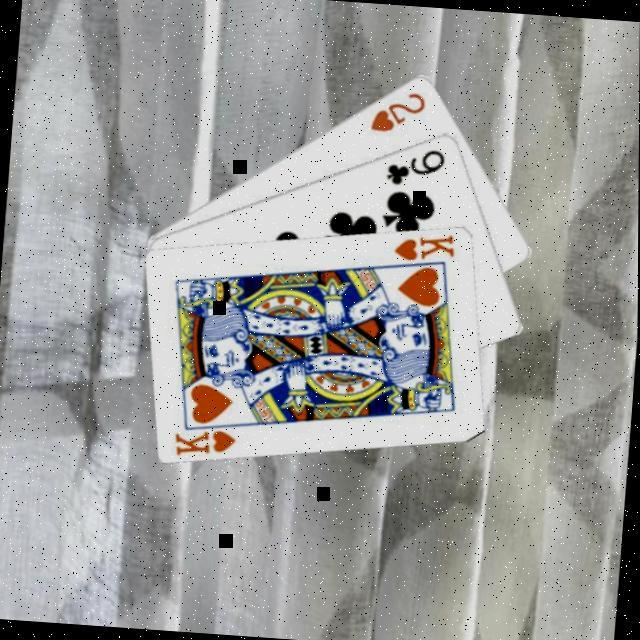2H: (368, 87, 431, 139)
9C: (383, 145, 450, 193)
KH: (172, 424, 242, 463), (393, 229, 461, 269)
